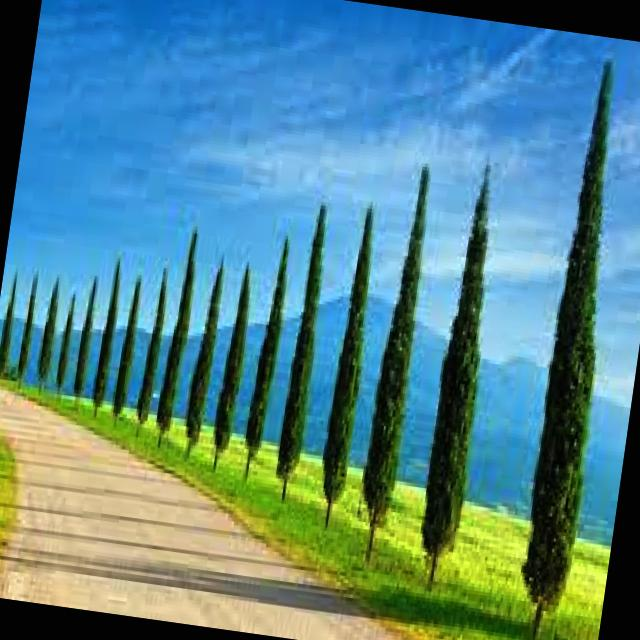foliage: (522, 63, 613, 638), (418, 183, 492, 592), (360, 174, 429, 548), (323, 207, 369, 534), (275, 205, 322, 504), (245, 240, 286, 482), (155, 232, 197, 447), (214, 264, 249, 468), (187, 256, 222, 459), (137, 269, 167, 427), (91, 263, 119, 411), (113, 276, 140, 417), (73, 277, 98, 408), (39, 278, 60, 393), (57, 292, 76, 395), (20, 276, 37, 378), (0, 271, 16, 373)
